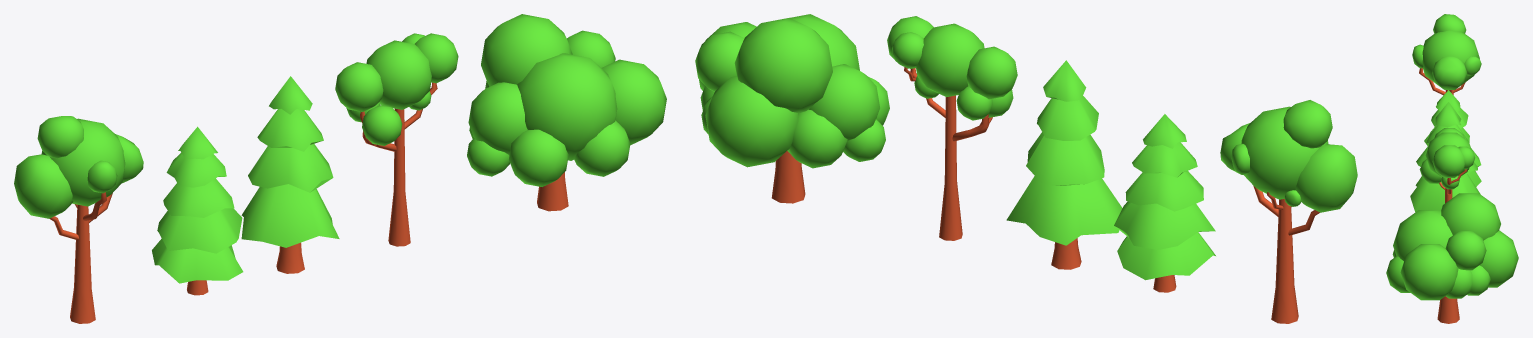
File: Trees.fbx
3 views of the same model, side by side, from view 1: azimuth 30°, elevation 25°; view 2: azimuth 150°, elevation 25°; view 3: azimuth 270°, elevation 25° (orthographic). The views are drawn at different scales.
Visible parts, largest first — view 1: Tree_4_LOD0, Tree_1_LOD0, Spruce_2_LOD0, Tree_2_LOD0, Spruce_1_LOD0; view 2: Tree_4_LOD0, Tree_1_LOD0, Spruce_2_LOD0, Tree_2_LOD0, Spruce_1_LOD0; view 3: Tree_4_LOD0, Tree_1_LOD0, Tree_2_LOD0, Spruce_2_LOD0, Spruce_1_LOD0.
Boxes of the visible parts, x1=… form: Tree_4_LOD0: x1=467, y1=14, x2=666, y2=211; Tree_1_LOD0: x1=14, y1=116, x2=143, y2=323; Spruce_2_LOD0: x1=241, y1=76, x2=339, y2=273; Tree_2_LOD0: x1=335, y1=33, x2=458, y2=246; Spruce_1_LOD0: x1=152, y1=126, x2=243, y2=295; Tree_4_LOD0: x1=695, y1=14, x2=889, y2=203; Tree_1_LOD0: x1=1220, y1=100, x2=1357, y2=323; Spruce_2_LOD0: x1=1006, y1=60, x2=1122, y2=269; Tree_2_LOD0: x1=887, y1=16, x2=1017, y2=240; Spruce_1_LOD0: x1=1114, y1=114, x2=1215, y2=292; Tree_4_LOD0: x1=1386, y1=193, x2=1518, y2=323; Tree_1_LOD0: x1=1412, y1=14, x2=1481, y2=95; Tree_2_LOD0: x1=1420, y1=128, x2=1475, y2=203; Spruce_2_LOD0: x1=1410, y1=102, x2=1480, y2=211; Spruce_1_LOD0: x1=1415, y1=90, x2=1481, y2=186.
Size of what is drawn, in the model's own units: 1276 by 404 by 345.
